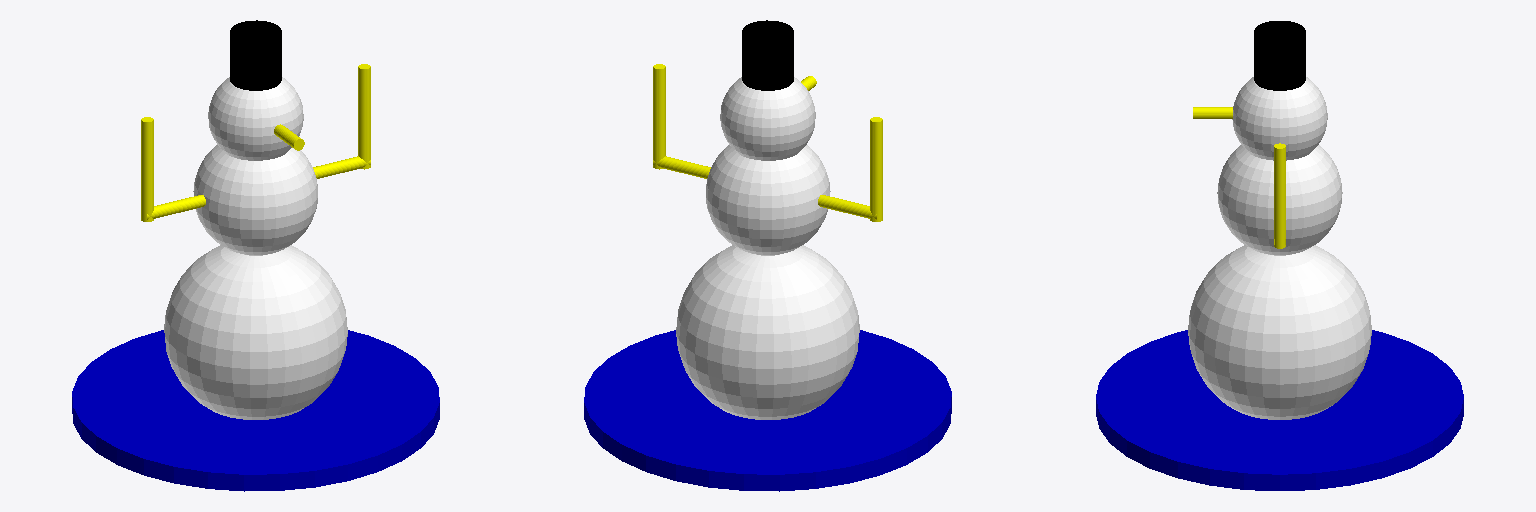
URDF robot description (snowman_bot):
<?xml version="1.0"?>
<robot name="snowman_bot">

  <material name="blue">
    <color rgba="0 0 0.8 1"/>
  </material>

  <material name="white">
    <color rgba="1 1 1 1"/>
  </material>

  <material name="black">
    <color rgba="0 0 0 1"/>
  </material>

  <material name="orange">
    <color rgba="255 165 0 1"/>
  </material>

  <link name="base_link">
   <visual>
      <geometry>
        <cylinder length="0.05" radius="0.5"/>
      </geometry>
	<origin rpy="0 0 0" xyz="0 0 0.025"/>
      <material name="blue"/>
    </visual>
  </link>
  <link name="second_round">
    <visual>
      <geometry>
        <sphere radius="0.25"/>
      </geometry>
	<origin rpy="0 0 0" xyz="0 0 0.25"/>
      <material name="white"/>
    </visual>
  </link>

<joint name = "joint2" type="fixed">
<parent link="base_link"/>
<child link="second_round"/>
<origin xyz="0 0 0"/>
</joint>

  <link name="third_round">
    <visual>
      <geometry>
        <sphere radius="0.17"/>
      </geometry>
	<origin rpy="0 0 0" xyz="0 0 0.17"/>
      <material name="white"/>
    </visual>
  </link>

<joint name = "joint3" type="fixed">
<parent link="second_round"/>
<child link="third_round"/>
<origin xyz="0 0 0.49"/>
</joint>

  <link name="forth_round">
    <visual>
      <geometry>
        <sphere radius="0.13"/>
      </geometry>
	<origin rpy="0 0 0" xyz="0 0 0.13"/>
      <material name="white"/>
    </visual>
  </link>

<joint name = "joint4" type="fixed">
<parent link="third_round"/>
<child link="forth_round"/>
<origin xyz="0 0 0.27"/>
</joint>

  <link name="bin">
    <visual>
      <geometry>
        <cylinder length = "0.17" radius="0.07"/>
      </geometry>
	<origin rpy="0 0 0" xyz="0 0 0.05"/>
      <material name="black"/>
    </visual>
  </link>

<joint name = "joint5" type="fixed">
<parent link="forth_round"/>
<child link="bin"/>
<origin xyz="0 0 0.25"/>
</joint>

  <link name="food">
    <visual>
      <geometry>
        <cylinder length = "0.13" radius="0.017"/>
      </geometry>
	<origin rpy="0 1.57075 1.57075" xyz="0 0 0.05"/>
      <material name="orange"/>
    </visual>
  </link>

<joint name = "joint6" type="fixed">
<parent link="bin"/>
<child link="food"/>
<origin xyz="0 -0.17 -0.16"/>
</joint>


<link name="left_hand">
    <visual>
      <geometry>
        <cylinder length = "0.3" radius="0.017"/>
      </geometry>
	<origin rpy="0 1.57075 0" xyz="0 0 0.017"/>
      <material name="orange"/>
    </visual>
  </link>

<joint name = "joint7" type="fixed">
<parent link="third_round"/>
<child link="left_hand"/>
<origin xyz="-0.2 0 0.17"/>
</joint>

<link name="right_hand">
    <visual>
      <geometry>
        <cylinder length = "0.3" radius="0.017"/>
      </geometry>
	<origin rpy="1.57075 0 1.57075" xyz="0 0 0.017"/>
      <material name="orange"/>
    </visual>
  </link>

<joint name = "joint8" type="fixed">
<parent link="third_round"/>
<child link="right_hand"/>
<origin xyz="0.2 0 0.17"/>
</joint>


<link name="left_hand2">
    <visual>
      <geometry>
        <cylinder length = "0.3" radius="0.017"/>
      </geometry>
	<origin rpy="0 0 0" xyz="0 0 0.017"/>
      <material name="orange"/>
    </visual>
  </link>

<joint name = "joint9" type="fixed">
<parent link="left_hand"/>
<child link="left_hand2"/>
<origin xyz="-0.14 0 0.133"/>
</joint>

<link name="right_hand2">
    <visual>
      <geometry>
        <cylinder length = "0.3" radius="0.017"/>
      </geometry>
	<origin rpy="0 0 0" xyz="0 0 0.017"/>
      <material name="orange"/>
    </visual>
  </link>

<joint name = "joint10" type="fixed">
<parent link="right_hand"/>
<child link="right_hand2"/>
<axis xyz="0 0 0.3"/>
<origin xyz="0.14 0 0.133"/>
</joint>
</robot>

--- What the picture shows (computed from the rendered views, not written in the file) ---
3 views of the same robot in one strip: view 1: azimuth 30°, elevation 25°; view 2: azimuth 150°, elevation 25°; view 3: azimuth 270°, elevation 25° (orthographic).
Model snowman_bot with 10 links and 9 joints (9 fixed), rooted at base_link, posed all joints at 0.
Visible links, largest first — view 1: base_link, second_round, third_round, forth_round, bin, left_hand2, right_hand2, left_hand, right_hand; view 2: base_link, second_round, third_round, forth_round, bin, left_hand2, right_hand2, left_hand, right_hand; view 3: base_link, second_round, third_round, forth_round, bin, right_hand2.
Link boxes in pixels (bbox=[...]): base_link: bbox=[72, 330, 439, 491]; second_round: bbox=[164, 245, 347, 419]; third_round: bbox=[193, 145, 317, 255]; forth_round: bbox=[208, 77, 303, 160]; bin: bbox=[230, 20, 281, 90]; left_hand2: bbox=[141, 117, 153, 221]; right_hand2: bbox=[358, 64, 370, 169]; left_hand: bbox=[147, 195, 205, 219]; right_hand: bbox=[313, 156, 370, 178]; base_link: bbox=[584, 330, 951, 491]; second_round: bbox=[676, 245, 859, 419]; third_round: bbox=[706, 145, 830, 255]; forth_round: bbox=[720, 77, 815, 160]; bin: bbox=[742, 20, 793, 90]; left_hand2: bbox=[870, 117, 882, 221]; right_hand2: bbox=[653, 64, 665, 169]; left_hand: bbox=[818, 195, 876, 219]; right_hand: bbox=[653, 156, 710, 178]; base_link: bbox=[1096, 330, 1463, 490]; second_round: bbox=[1188, 245, 1371, 419]; third_round: bbox=[1217, 145, 1342, 255]; forth_round: bbox=[1232, 77, 1327, 160]; bin: bbox=[1254, 21, 1305, 90]; right_hand2: bbox=[1274, 143, 1285, 248].
Bounding box of the posed robot: 1 × 1 × 1.15 m (x, y, z).
Geometry: primitives only (box / cylinder / sphere), no mesh files.
